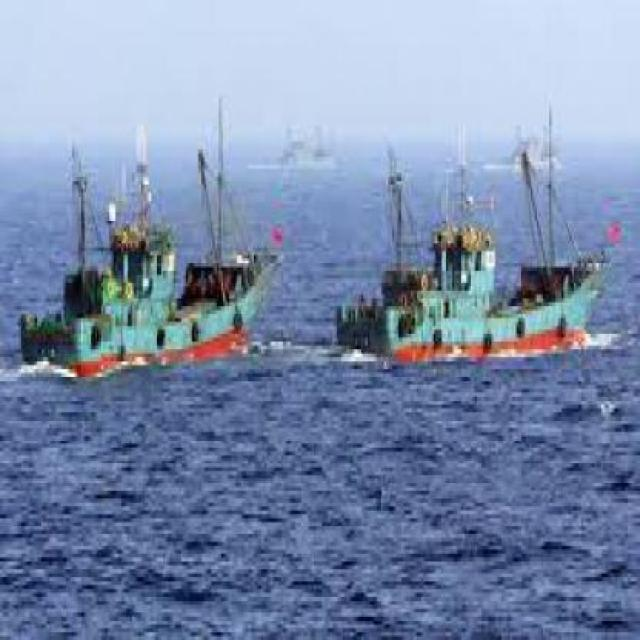fish-b: (329, 123, 633, 406), (26, 107, 298, 401)
